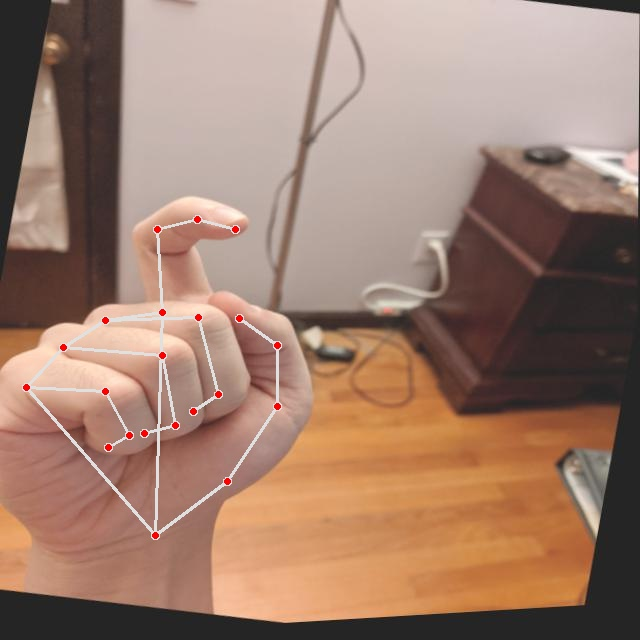X: (0, 152, 358, 594)
